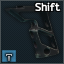Fortis Shift tactical grip: (0, 0, 64, 64)
